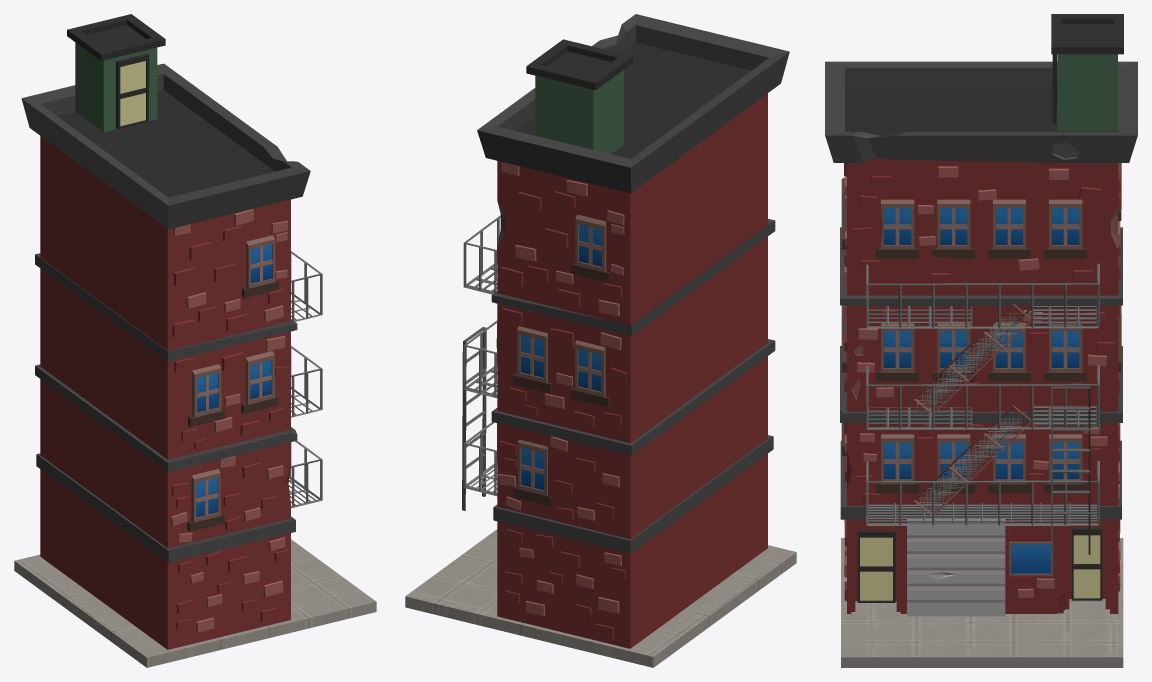
File: House_01.fbx
The picture shows the model from 3 angles, left to right: view 1: azimuth 30°, elevation 25°; view 2: azimuth 150°, elevation 25°; view 3: azimuth 270°, elevation 25°; orthographic projection. The views are drawn at different scales.
Visible parts, largest first — view 1: House_01; view 2: House_01; view 3: House_01.
Boxes of the visible parts, x1,y1,x2,y2 form: House_01: [14, 14, 376, 667]; House_01: [405, 14, 796, 667]; House_01: [825, 14, 1137, 667].
Bounding box in the file's own units: 1200 × 2637 × 1330.
